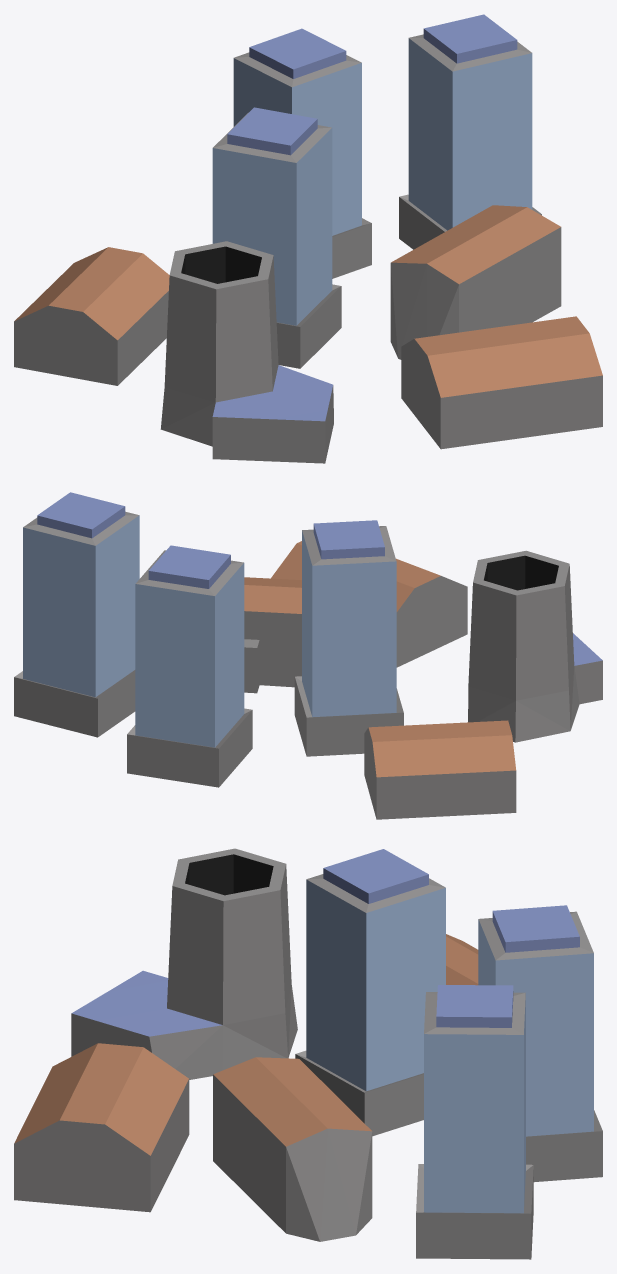
Rendered from beta01_08.dae.
3 renders of one model, top to bottom at view 1: azimuth 30°, elevation 25°; view 2: azimuth 150°, elevation 25°; view 3: azimuth 270°, elevation 25°, orthographic. The views are drawn at different scales.
Visible parts, largest first — view 1: Cube; view 2: Cube; view 3: Cube.
Boxes of the visible parts, bbox=[...] form: Cube: bbox=[14, 14, 602, 463]; Cube: bbox=[14, 492, 602, 819]; Cube: bbox=[14, 848, 602, 1259].
Bounding box in the file's own units: 1.95 × 1.79 × 0.8068.
